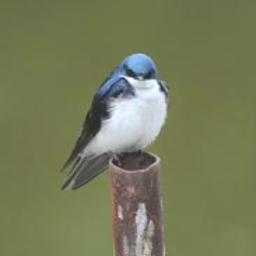Swallow: (57, 51, 171, 192)
